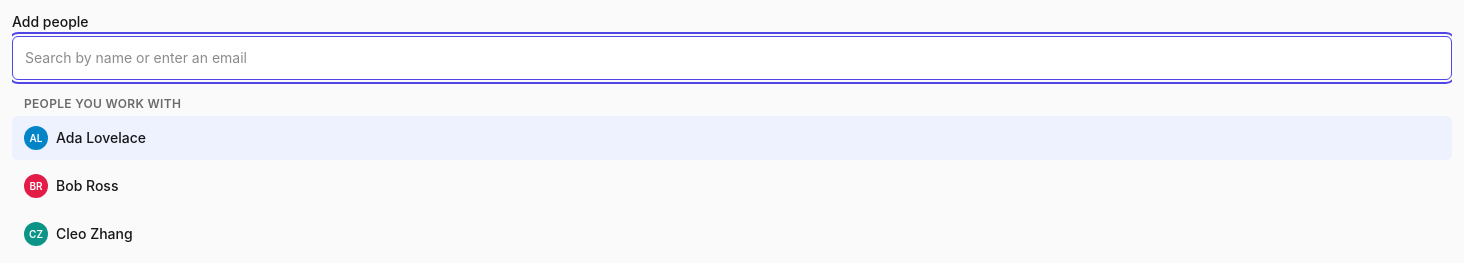
Scenario: MemberPicker › keeps an added person listed as done so the next row cannot shift under a click
Click the button with aria-label "Add Ada Lovelace".
click(101, 138)  # box [12,116,1452,160]
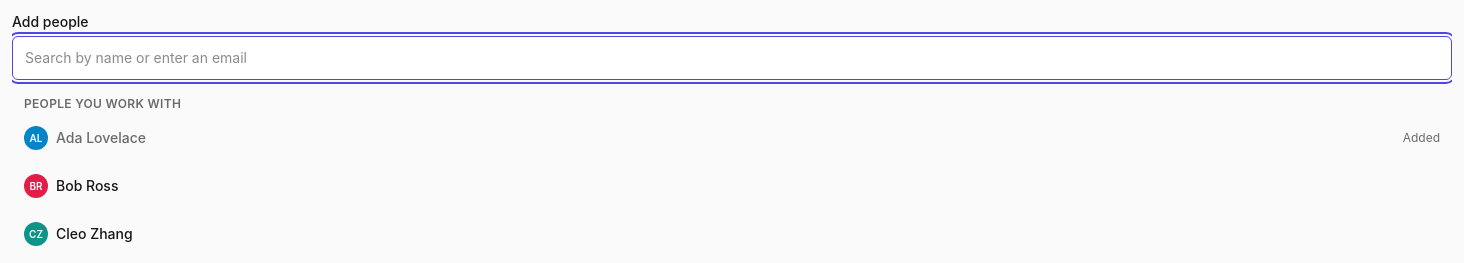
Expected: the button with aria-label "Add Bob Ross" is shown, [12,164,1452,208]
Now the button "AL Ada Lovelace Added" is disabled, box [12,116,1452,160]
